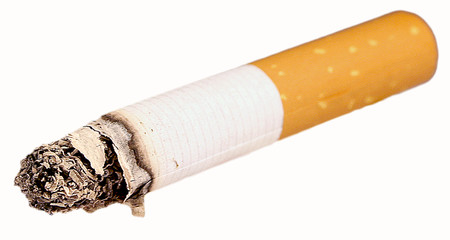cigarette: (10, 9, 444, 221)
